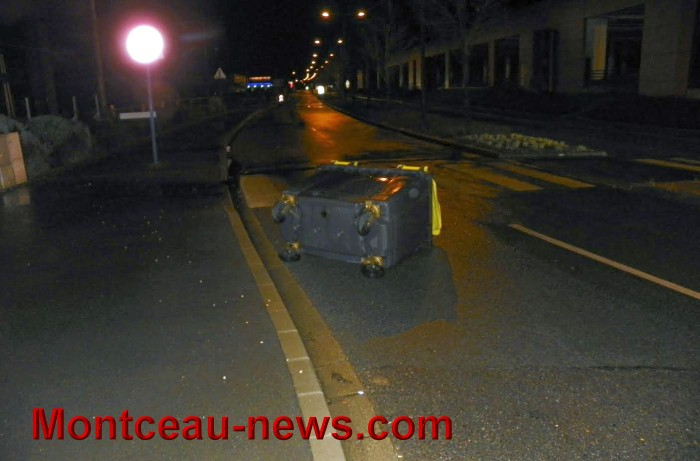obstacle: (263, 156, 456, 286)
